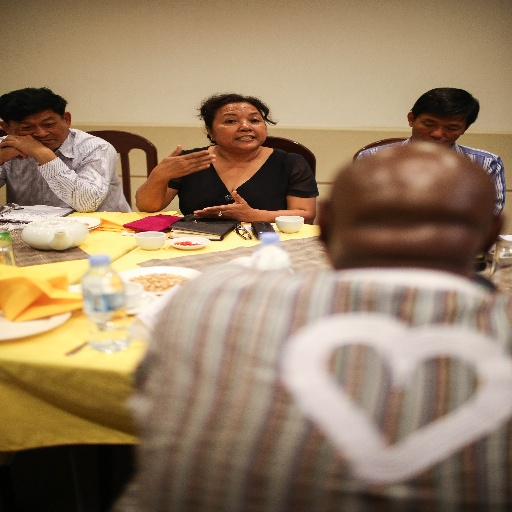hand: (142, 144, 206, 189), (193, 190, 256, 223), (0, 135, 43, 156), (0, 148, 27, 165)
